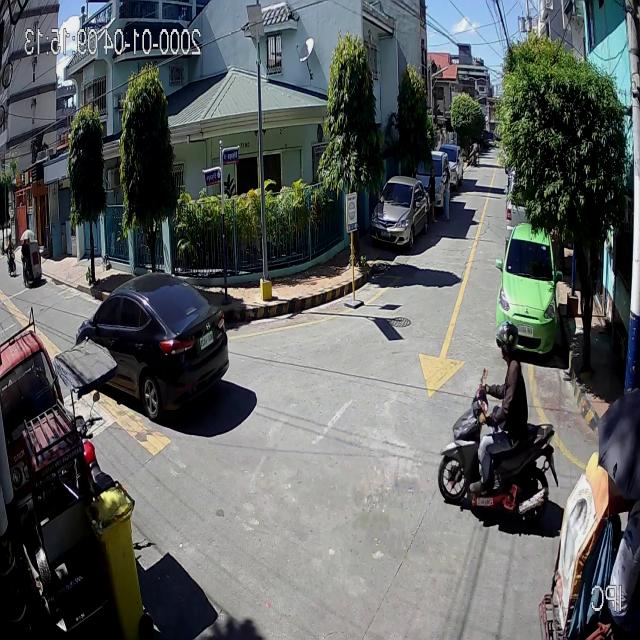standing: (439, 166, 452, 221), (427, 166, 438, 223), (476, 142, 482, 164)
